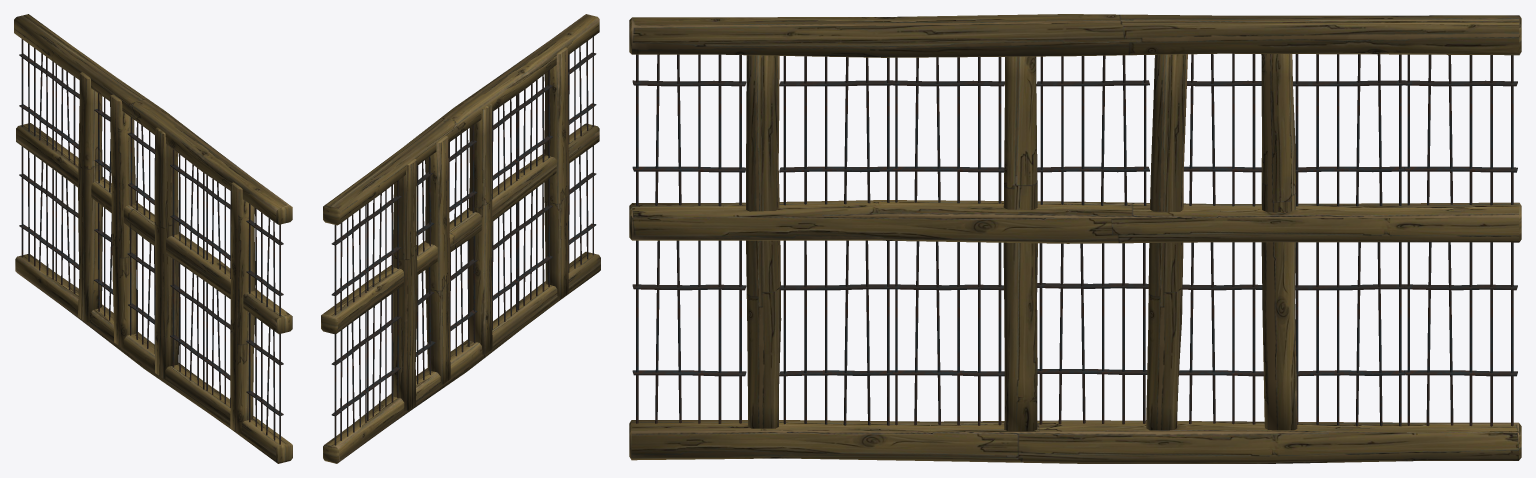
File: wallJailNoHoleLowPoly.fbx
3 views of the same model, side by side, from view 1: azimuth 30°, elevation 25°; view 2: azimuth 150°, elevation 25°; view 3: azimuth 270°, elevation 25° (orthographic). The views are drawn at different scales.
Visible parts, largest first — view 1: beamMedium9, polySurface367; view 2: beamMedium9, polySurface367; view 3: beamMedium9, polySurface367.
Boxes of the visible parts, left/top/right/bottom form: beamMedium9: left=14, top=14, right=292, bottom=463; polySurface367: left=19, top=39, right=283, bottom=444; beamMedium9: left=321, top=14, right=600, bottom=463; polySurface367: left=331, top=36, right=596, bottom=445; beamMedium9: left=629, top=14, right=1521, bottom=463; polySurface367: left=632, top=53, right=1517, bottom=426.
Bounding box in the file's own units: 0.401 × 4.44 × 8.17.
